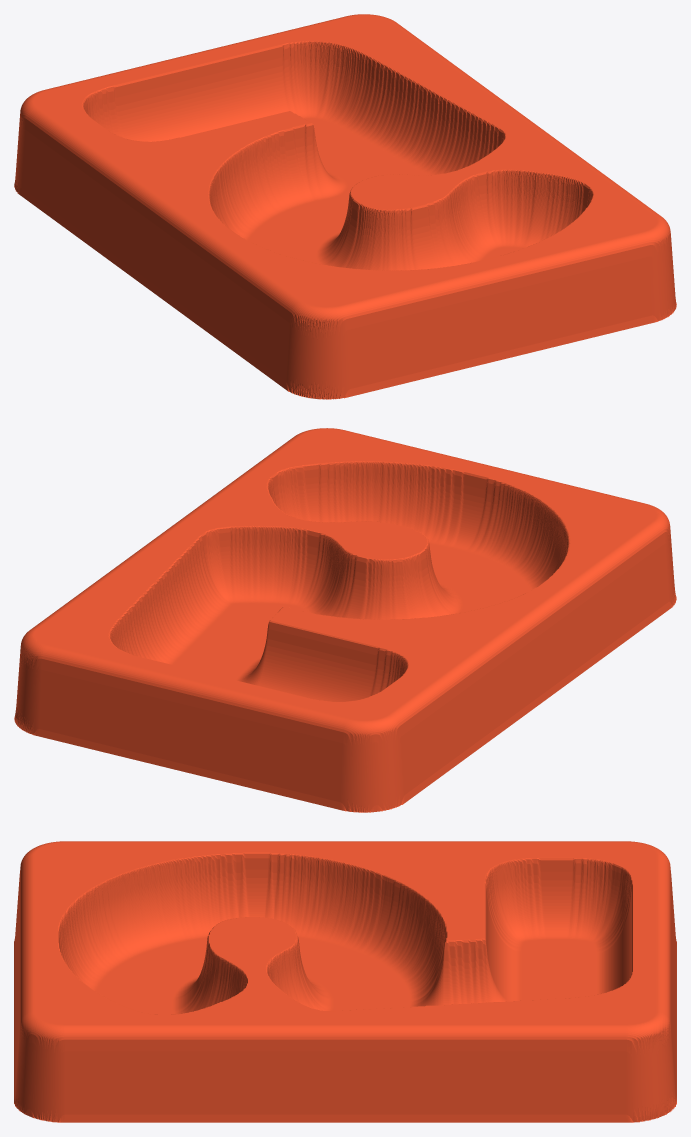
Rendered from mold.glb.
The picture shows the model from 3 angles, top to bottom: view 1: azimuth 30°, elevation 25°; view 2: azimuth 150°, elevation 25°; view 3: azimuth 270°, elevation 25°; orthographic projection. The views are drawn at different scales.
Visible parts, largest first — view 1: geometry_0; view 2: geometry_0; view 3: geometry_0.
Boxes of the visible parts, <box> form: geometry_0: <box>14,14,676,399</box>; geometry_0: <box>14,428,676,812</box>; geometry_0: <box>14,841,676,1122</box>.
Size of the model in its own units: 0.0838 by 0.0175 by 0.1178.
